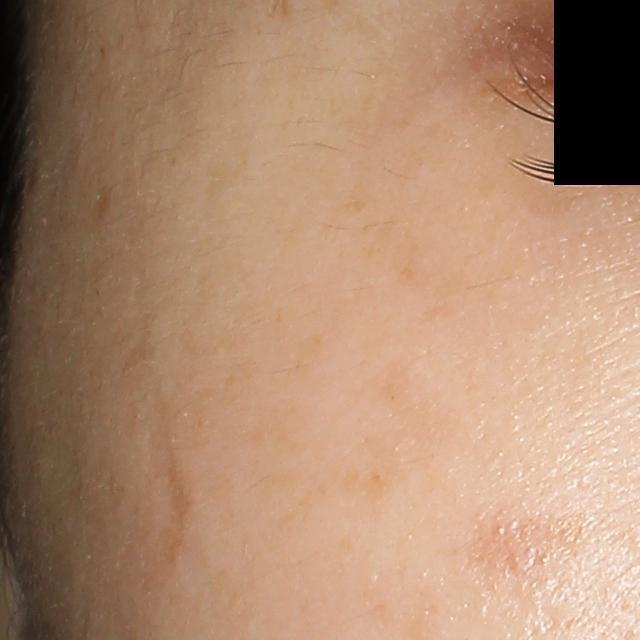melasma: (283, 188, 483, 520), (454, 495, 620, 604), (73, 169, 126, 254)
